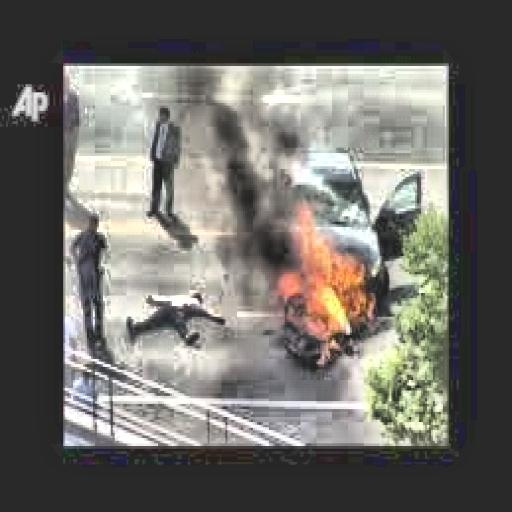fire: (265, 227, 383, 375)
